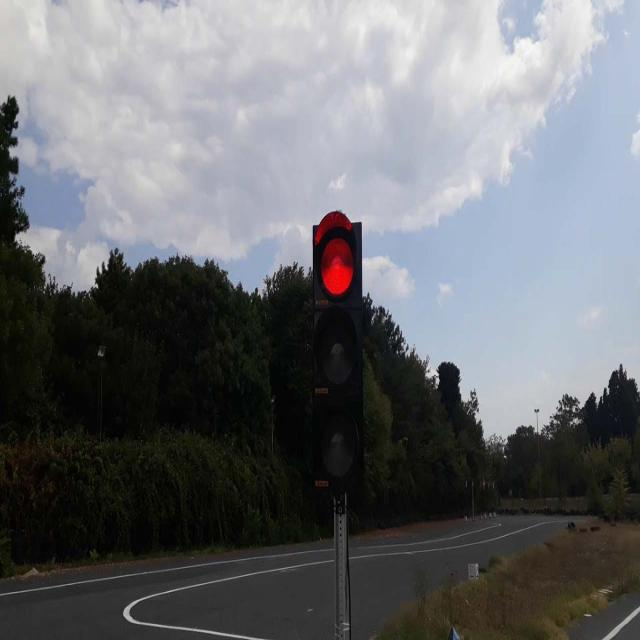kirmizi: (310, 214, 366, 487)
